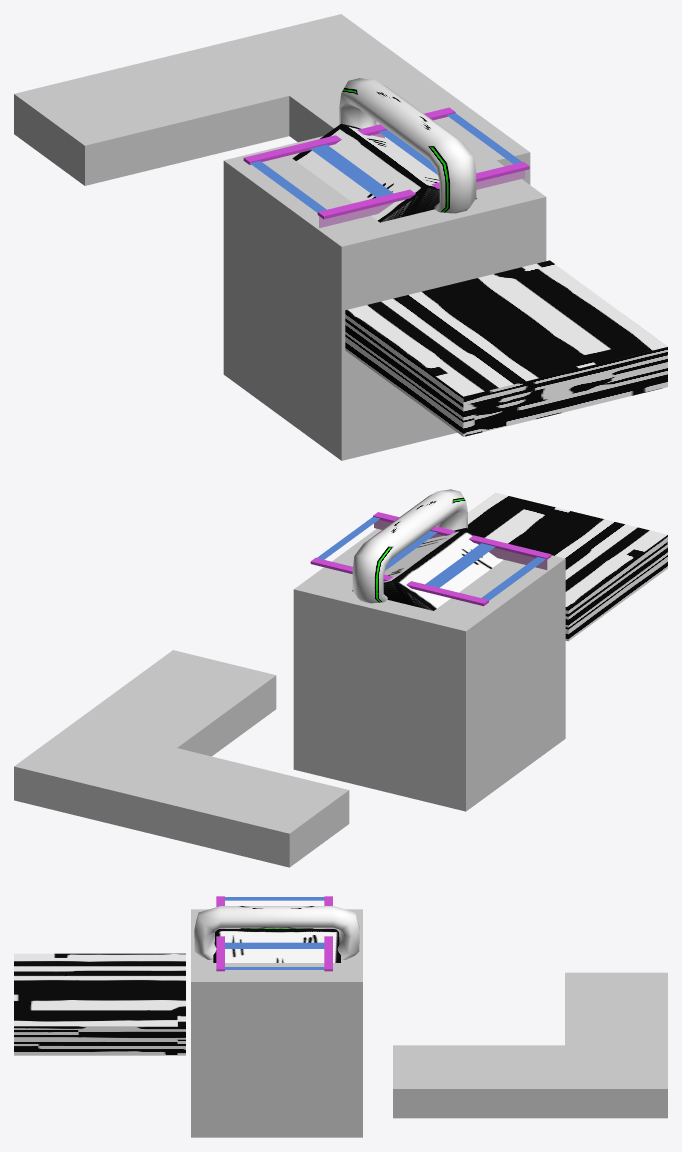
Rendered from Bahn 1.fbx.
The picture shows the model from 3 angles, top to bottom: view 1: azimuth 30°, elevation 25°; view 2: azimuth 150°, elevation 25°; view 3: azimuth 270°, elevation 25°; orthographic projection. The views are drawn at different scales.
Visible parts, largest first — view 1: Cube.002, Cube.003, Cube.006, Cube.005, Cube.008, Cube.009, Cube.004, Dach hälfte 1, Dach hälfte 2, Cube, DachGrund; view 2: Cube.002, Cube.006, Cube.003, Cube.004, Cube.005, Cube.008, Cube.009, Dach hälfte 1, Cube, Dach hälfte 2, DachGrund; view 3: Cube.002, Cube.003, Cube.004, Cube.005, Cube.006, Cube.008, Dach hälfte 2, Cube.009, Cube.
Part boxes in pixels (x1,y1,x2,y2): Cube.002: (223, 110, 546, 460); Cube.003: (345, 260, 667, 436); Cube.006: (14, 44, 289, 185); Cube.005: (219, 14, 411, 95); Cube.008: (339, 78, 476, 213); Cube.009: (243, 107, 529, 228); Cube.004: (289, 66, 530, 184); Dach hälfte 1: (292, 124, 428, 222); Dach hälfte 2: (342, 124, 476, 198); Cube: (223, 263, 352, 358); DachGrund: (380, 188, 476, 222); Cube.002: (293, 529, 565, 811); Cube.006: (117, 748, 349, 867); Cube.003: (468, 493, 667, 641); Cube.004: (74, 650, 276, 756); Cube.005: (14, 723, 176, 825); Cube.008: (352, 489, 467, 603); Cube.009: (310, 512, 551, 606); Dach hälfte 1: (393, 528, 503, 610); Cube: (293, 645, 565, 725); Dach hälfte 2: (352, 528, 465, 590); DachGrund: (352, 582, 432, 610); Cube.002: (191, 909, 362, 1137); Cube.003: (14, 953, 185, 1055); Cube.004: (393, 1045, 564, 1118); Cube.005: (565, 1045, 667, 1118); Cube.006: (565, 972, 667, 1045); Cube.008: (194, 906, 359, 959); Dach hälfte 2: (213, 929, 340, 962); Cube.009: (216, 896, 332, 971); Cube: (191, 1056, 362, 1063).
Size of the model in its own units: 321 by 266 by 761.
